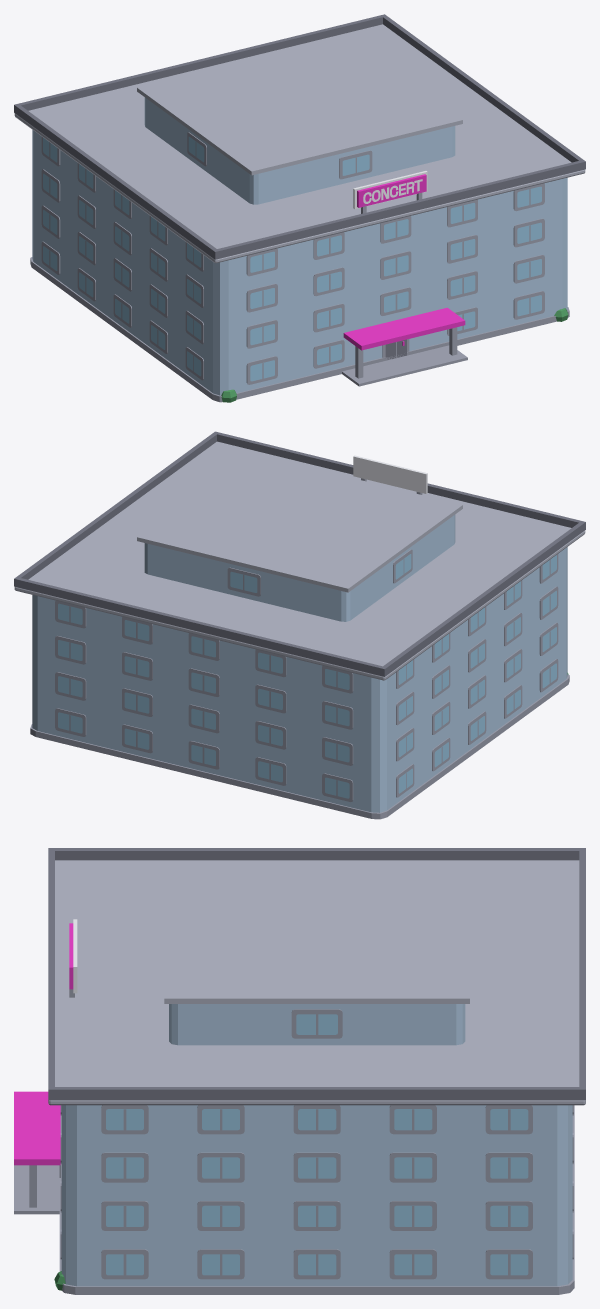
The model's file is concert-hall-3x3-4f.glb.
The picture shows the model from 3 angles, top to bottom: view 1: azimuth 30°, elevation 25°; view 2: azimuth 150°, elevation 25°; view 3: azimuth 270°, elevation 25°; orthographic projection. The views are drawn at different scales.
Visible parts, largest first — view 1: concert-hall-3x3-4f; view 2: concert-hall-3x3-4f; view 3: concert-hall-3x3-4f.
Boxes of the visible parts, x1,y1,x2,y2 form: concert-hall-3x3-4f: [14, 14, 585, 402]; concert-hall-3x3-4f: [14, 431, 585, 819]; concert-hall-3x3-4f: [14, 848, 585, 1294].
Bounding box in the file's own units: 3 × 1.44 × 3.
1 material, 1 textured.
